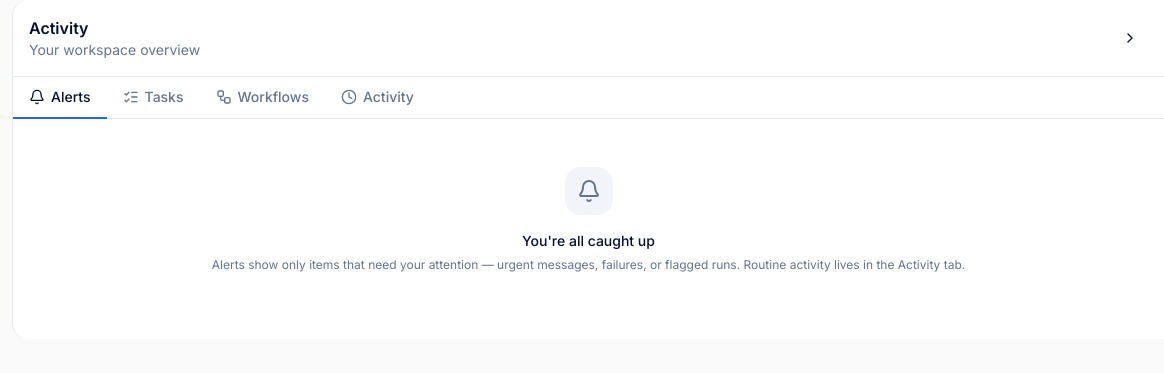
it: ContextPanel › marks a workflow run button as running while manual execution is pending
Click the button "Workflows". click: coordinates (262, 98)
box: x1=200 y1=77 x2=325 y2=119
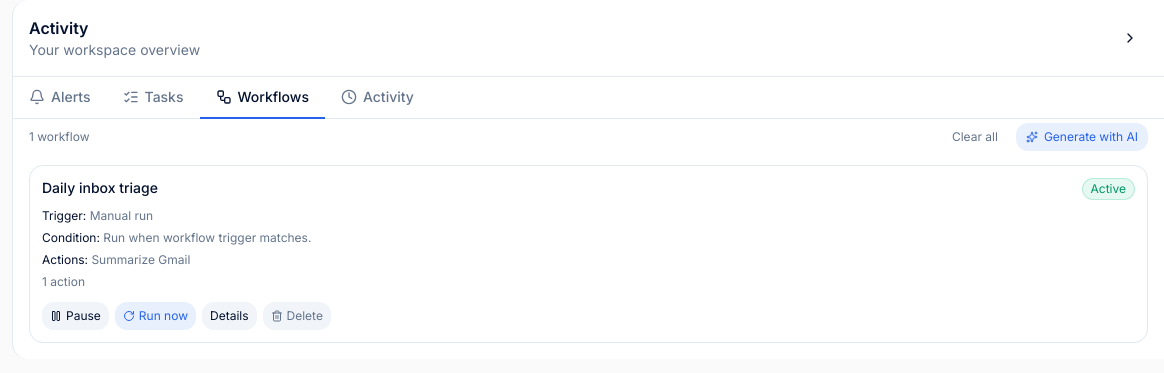
Click the button "Run now". click: coordinates (155, 316)
box: x1=115 y1=302 x2=196 y2=330
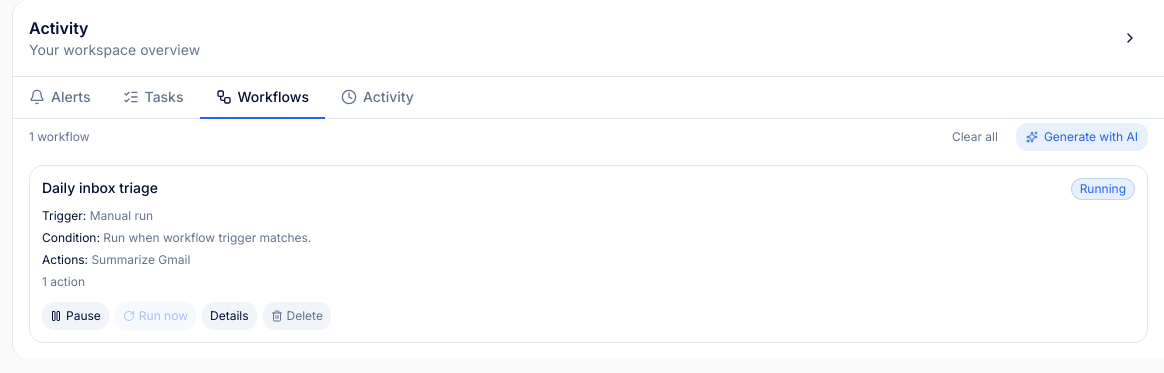
Expected: the button "Run now" is disabled, x1=115 y1=302 x2=196 y2=330
Expected: the text "Running" is shown, x1=1071 y1=178 x2=1135 y2=200
